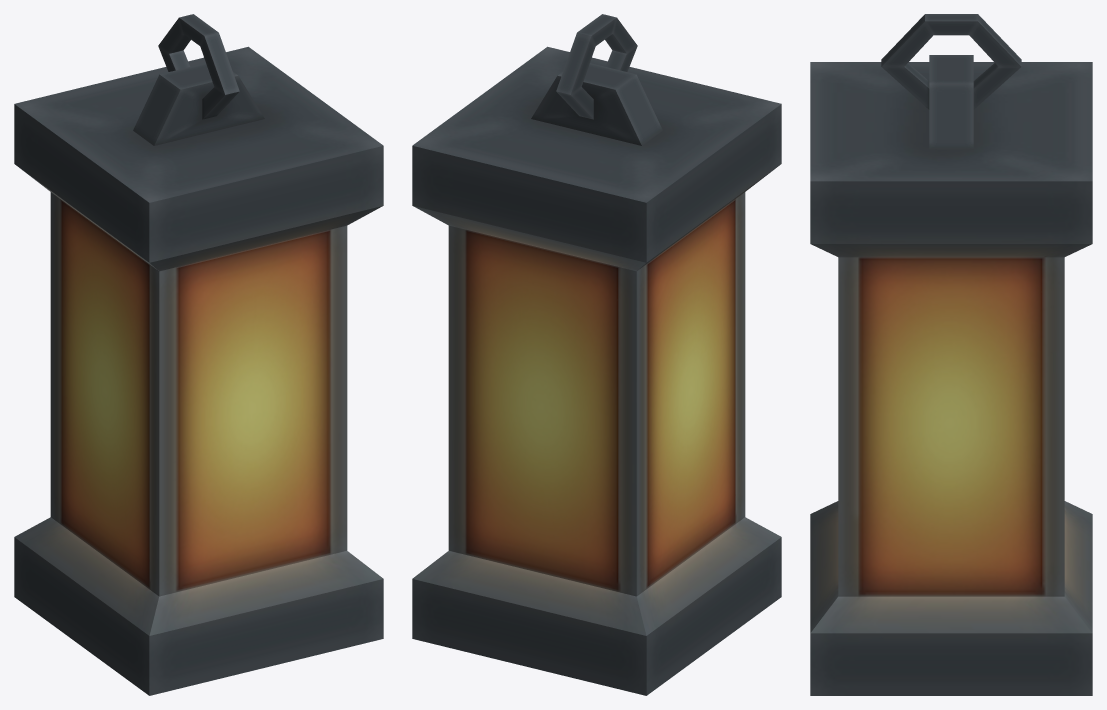
The model's file is Lantern.fbx.
The picture shows the model from 3 angles, left to right: view 1: azimuth 30°, elevation 25°; view 2: azimuth 150°, elevation 25°; view 3: azimuth 270°, elevation 25°; orthographic projection. The views are drawn at different scales.
Parts seen in each view (by area): view 1: pCube3; view 2: pCube3; view 3: pCube3.
Part boxes in pixels (bbox=[...]): pCube3: bbox=[14, 14, 383, 695]; pCube3: bbox=[412, 14, 781, 695]; pCube3: bbox=[810, 14, 1092, 695].
Size of the model in its own units: 2.4 by 5.8 by 2.4.
Materials: 1 (1 with a texture image).
